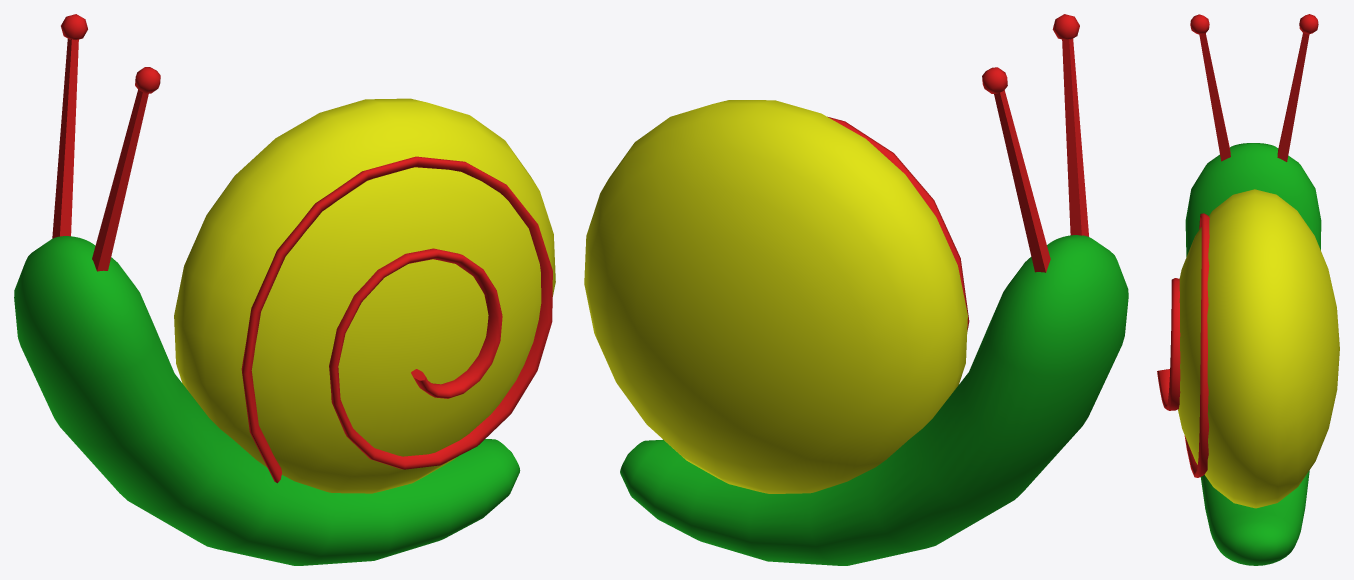
The picture shows the model from 3 angles, left to right: view 1: azimuth 30°, elevation 25°; view 2: azimuth 150°, elevation 25°; view 3: azimuth 270°, elevation 25°; orthographic projection. The views are drawn at different scales.
Visible parts, largest first — view 1: BA, BADY, JAI, SI02, SI; view 2: BA, BADY, SI, SI02, JAI; view 3: BA, BADY, JAI, SI02, SI, SI01, SI03.
Boxes of the visible parts, left/top/right/bottom form: BA: left=174, top=98, right=555, bottom=493; BADY: left=14, top=236, right=520, bottom=565; JAI: left=241, top=156, right=552, bottom=483; SI02: left=52, top=39, right=78, bottom=238; SI: left=92, top=89, right=148, bottom=271; BA: left=584, top=100, right=967, bottom=493; BADY: left=620, top=235, right=1128, bottom=565; SI: left=1062, top=38, right=1088, bottom=236; SI02: left=994, top=90, right=1050, bottom=272; JAI: left=827, top=116, right=969, bottom=331; BA: left=1178, top=189, right=1339, bottom=508; BADY: left=1185, top=143, right=1321, bottom=565; JAI: left=1157, top=213, right=1209, bottom=477; SI02: left=1277, top=33, right=1309, bottom=161; SI: left=1199, top=33, right=1230, bottom=161; SI01: left=1190, top=14, right=1209, bottom=34; SI03: left=1299, top=14, right=1318, bottom=34.
Bounding box in the file's own units: 5045 × 5304 × 2045.
